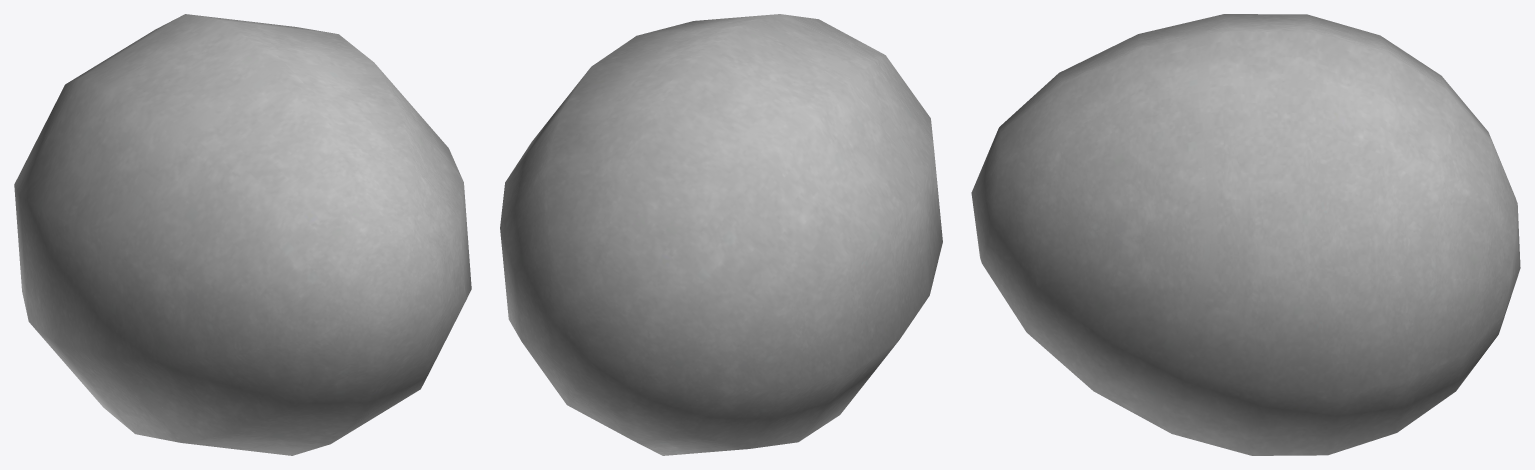
Rendered from SaltedEgg.glb.
3 views of the same model, side by side, from view 1: azimuth 30°, elevation 25°; view 2: azimuth 150°, elevation 25°; view 3: azimuth 270°, elevation 25° (orthographic). The views are drawn at different scales.
Visible parts, largest first — view 1: lba_egg_0_mod; view 2: lba_egg_0_mod; view 3: lba_egg_0_mod.
Part boxes in pixels (bbox=[...]): lba_egg_0_mod: bbox=[14, 14, 471, 455]; lba_egg_0_mod: bbox=[500, 14, 942, 455]; lba_egg_0_mod: bbox=[971, 14, 1520, 455].
Bounding box in the file's own units: 0.7741 × 0.8062 × 0.9843.
1 material, 1 textured.
